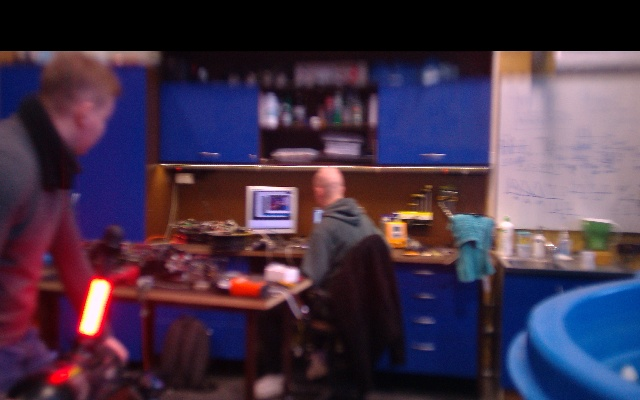red: (78, 277, 110, 338)
